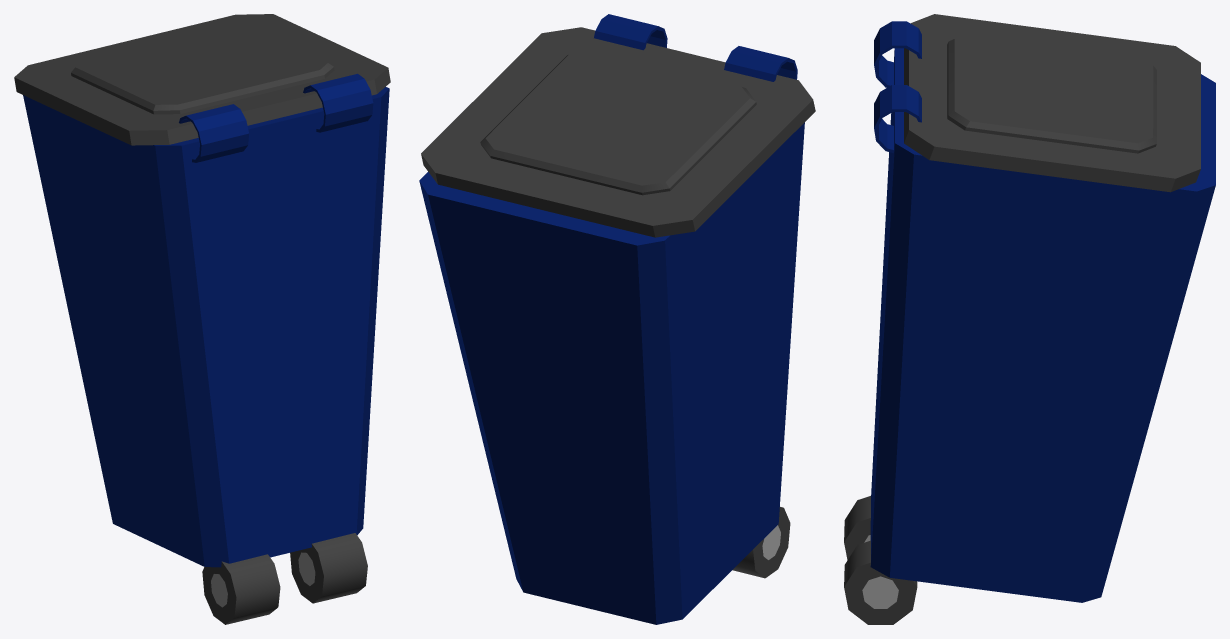
Rendered from Trash_can 2.fbx.
3 views of the same model, side by side, from view 1: azimuth 30°, elevation 25°; view 2: azimuth 150°, elevation 25°; view 3: azimuth 270°, elevation 25° (orthographic). The views are drawn at different scales.
Visible parts, largest first — view 1: polySurface32; view 2: polySurface32; view 3: polySurface32.
Boxes of the visible parts, left/top/right/bottom form: polySurface32: left=14, top=14, right=390, bottom=624; polySurface32: left=419, top=14, right=815, bottom=624; polySurface32: left=844, top=14, right=1215, bottom=624.
Bounding box in the file's own units: 89.26 × 165 × 106.
